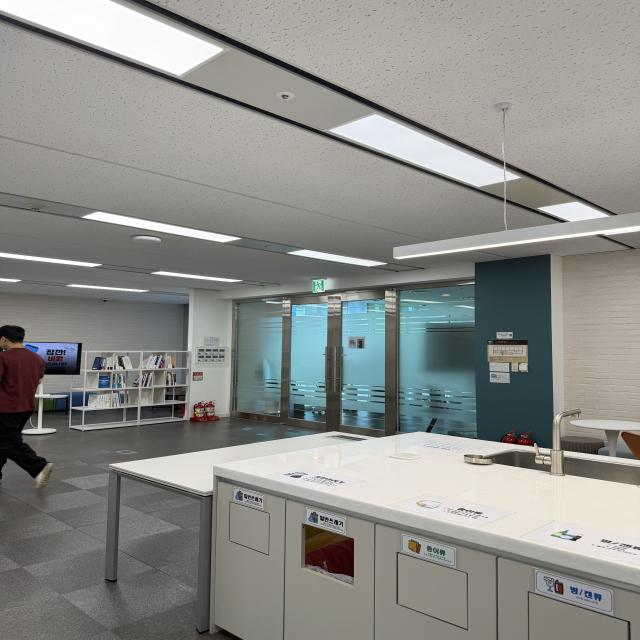front_door: (231, 279, 477, 452)
